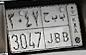0: (19, 18, 28, 50)
3: (7, 12, 19, 51)
7: (33, 9, 43, 46)
B: (59, 14, 70, 43)
J: (44, 9, 54, 44)
